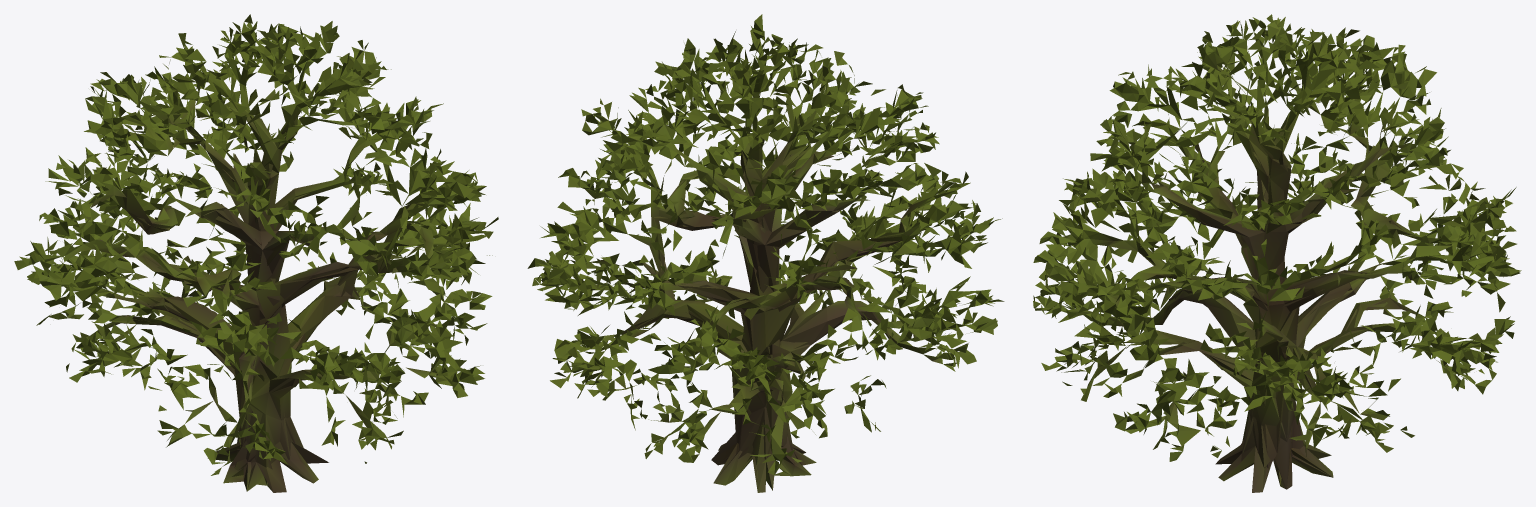
File: lib_tp_soi.vc.glb
The picture shows the model from 3 angles, left to right: view 1: azimuth 30°, elevation 25°; view 2: azimuth 150°, elevation 25°; view 3: azimuth 270°, elevation 25°; orthographic projection. The views are drawn at different scales.
Parts seen in each view (by area): view 1: lib_tp_soi; view 2: lib_tp_soi; view 3: lib_tp_soi.
Boxes of the visible parts, box(x1,y1,x2,y2) form: lib_tp_soi: box(14, 14, 498, 492); lib_tp_soi: box(527, 14, 1004, 492); lib_tp_soi: box(1033, 14, 1521, 492).
Size of the model in its own units: 1.8 by 1.72 by 1.73.
